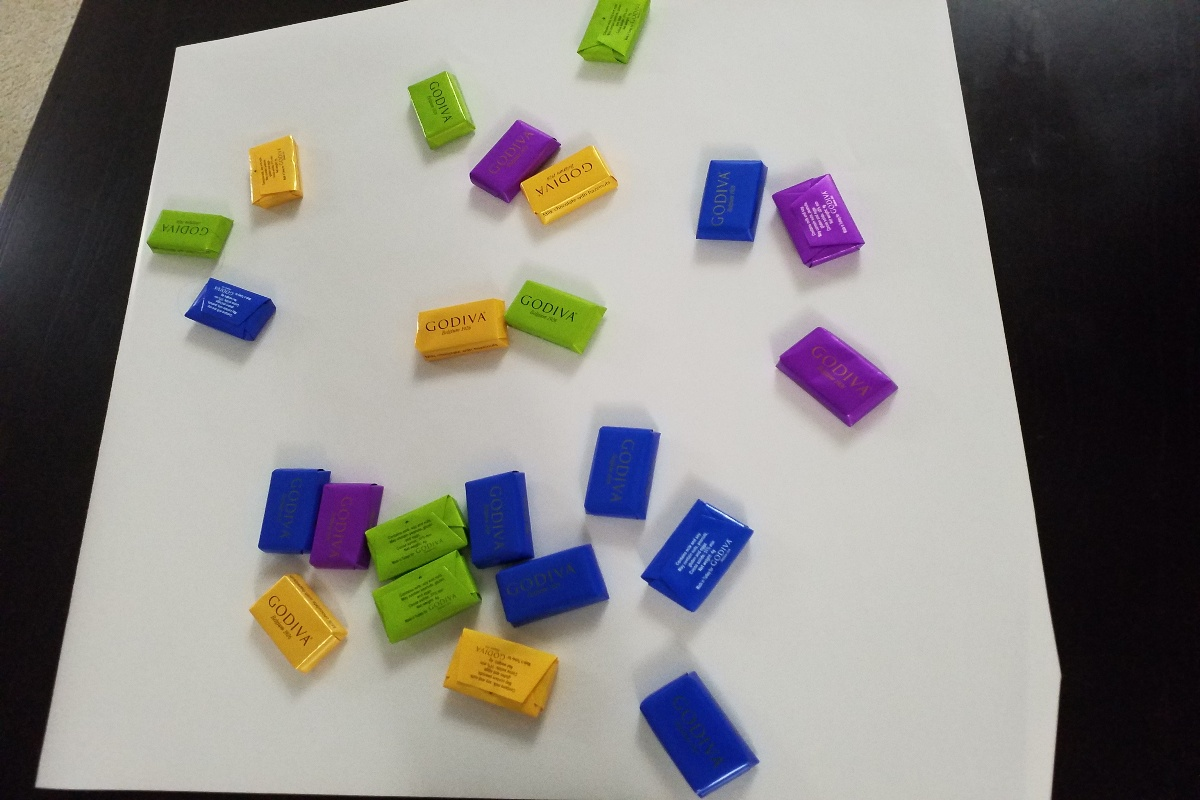chocolate_blue: (625, 661, 776, 799), (640, 507, 761, 621), (570, 410, 668, 535), (163, 273, 295, 355), (691, 144, 777, 255), (235, 460, 325, 564)
chocolate_green: (502, 271, 614, 371), (395, 67, 481, 160), (144, 191, 236, 270)
chocolate_purple: (760, 324, 909, 450), (770, 174, 875, 273), (473, 102, 552, 201)
chocolate_yellow: (227, 569, 359, 686), (434, 627, 575, 730), (395, 288, 511, 383), (526, 153, 625, 241), (235, 129, 312, 220)
